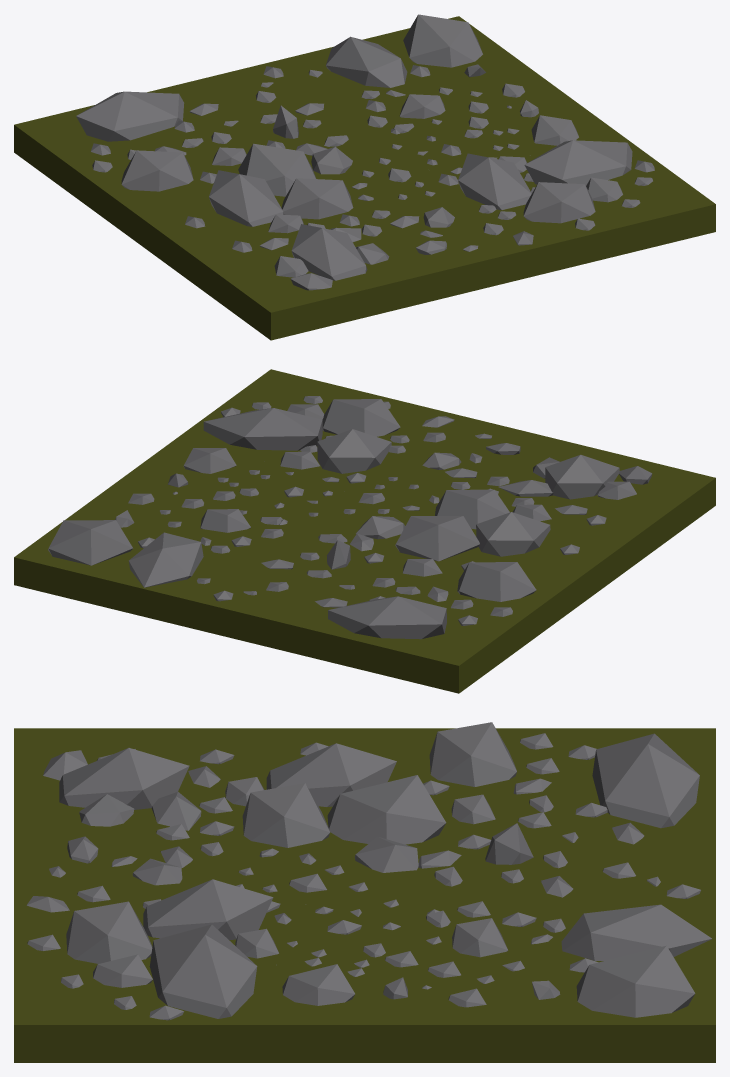
File: Piso de piedras.fbx
3 views of the same model, one above another, from view 1: azimuth 30°, elevation 25°; view 2: azimuth 150°, elevation 25°; view 3: azimuth 270°, elevation 25° (orthographic). The views are drawn at different scales.
Visible parts, largest first — view 1: pCube112; view 2: pCube112; view 3: pCube112.
Part boxes in pixels (box(x1,y1,x2,y2)): pCube112: box(14, 14, 715, 340); pCube112: box(14, 369, 715, 693); pCube112: box(14, 722, 715, 1062).
Size of the model in its own units: 2.99 by 0.4548 by 2.99.
